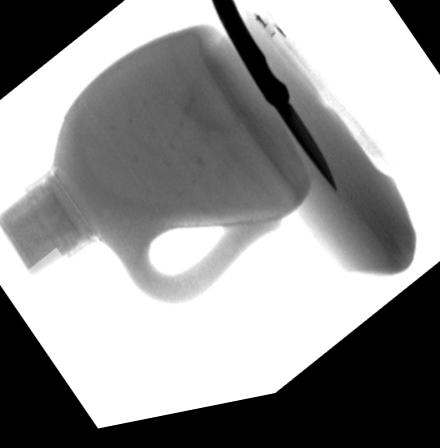Knife: (207, 0, 339, 210)
